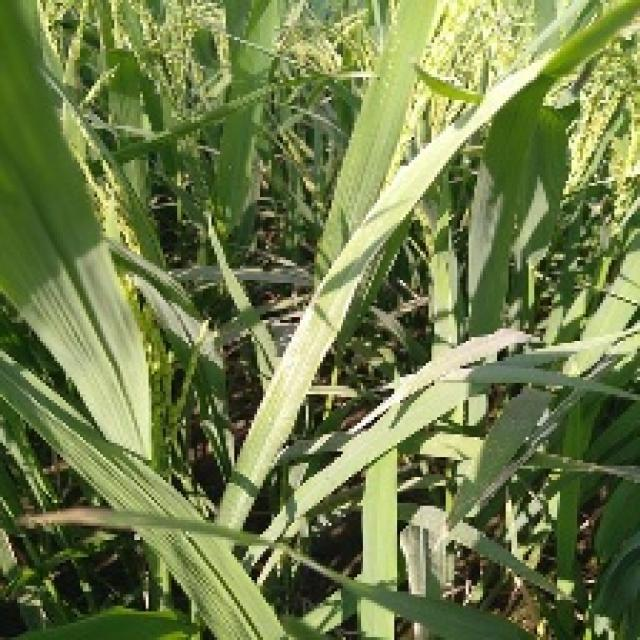Unhealthy: (11, 506, 112, 527)
